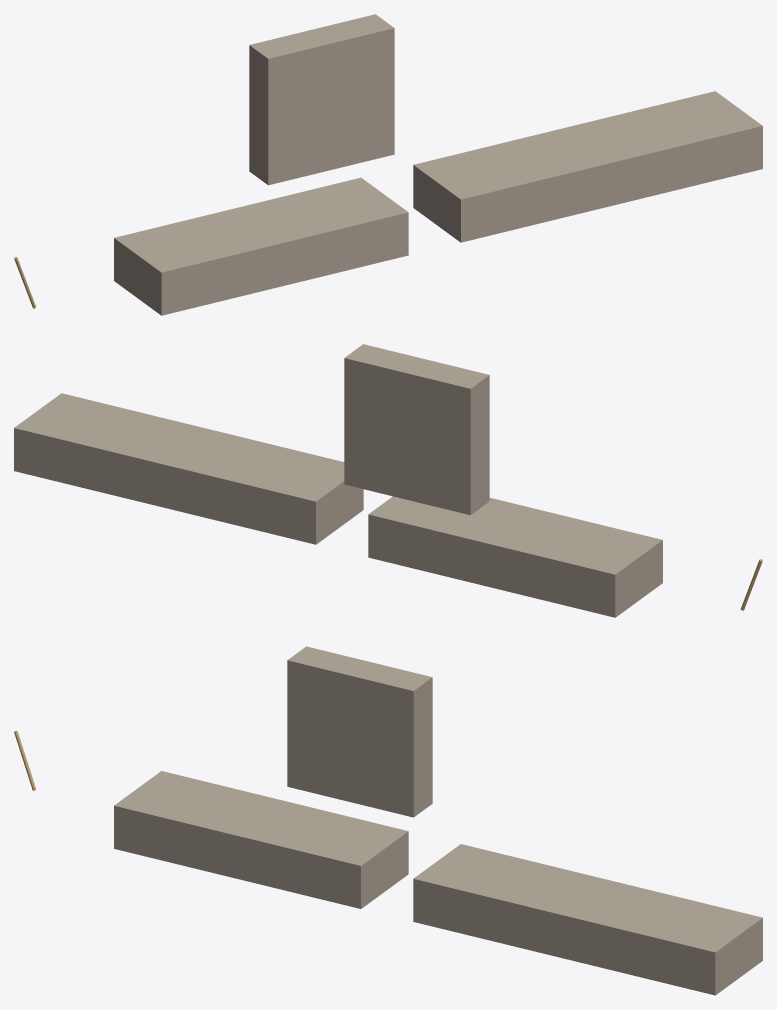
The model's file is arena_ruins.glb.
3 renders of one model, top to bottom at view 1: azimuth 30°, elevation 25°; view 2: azimuth 150°, elevation 25°; view 3: azimuth 330°, elevation 25°, orthographic.
Parts seen in each view (by area): view 1: Deco_Cliff_B, Deco_Cliff_A, Deco_ArchWall; view 2: Deco_Cliff_B, Deco_Cliff_A, Deco_ArchWall; view 3: Deco_Cliff_B, Deco_Cliff_A, Deco_ArchWall.
Part boxes in pixels (x1,y1,x2,y2): Deco_Cliff_B: (413, 91, 762, 242); Deco_Cliff_A: (114, 177, 408, 315); Deco_ArchWall: (249, 14, 394, 185); Deco_Cliff_B: (14, 393, 363, 544); Deco_Cliff_A: (368, 496, 662, 617); Deco_ArchWall: (344, 344, 489, 515); Deco_Cliff_B: (413, 844, 762, 995); Deco_Cliff_A: (114, 771, 408, 908); Deco_ArchWall: (287, 646, 432, 817).
Size of what is drawn, in the model's own units: 26.4 by 6.9 by 3.3.
